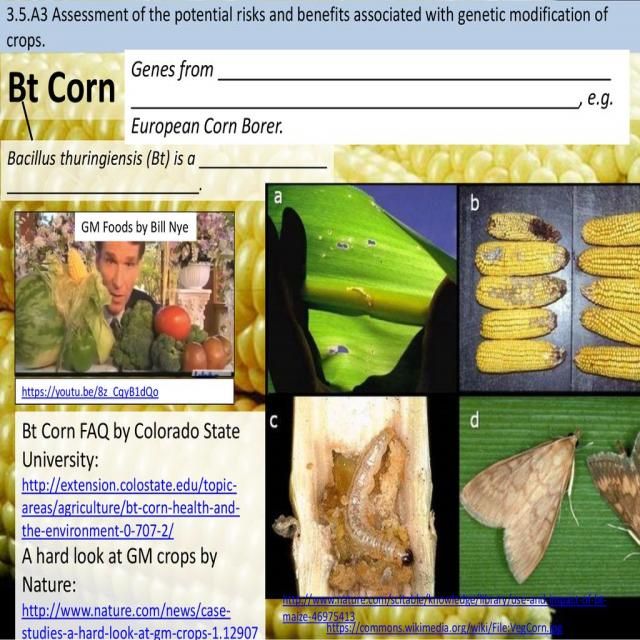cornborer-Adult-: (460, 421, 585, 588)
cornborer-Larva-: (342, 418, 418, 572)
